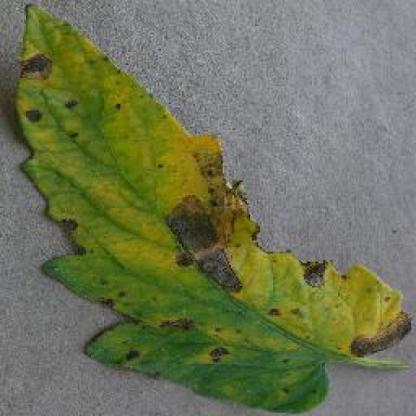Tomato_Blight: (18, 3, 412, 407)
